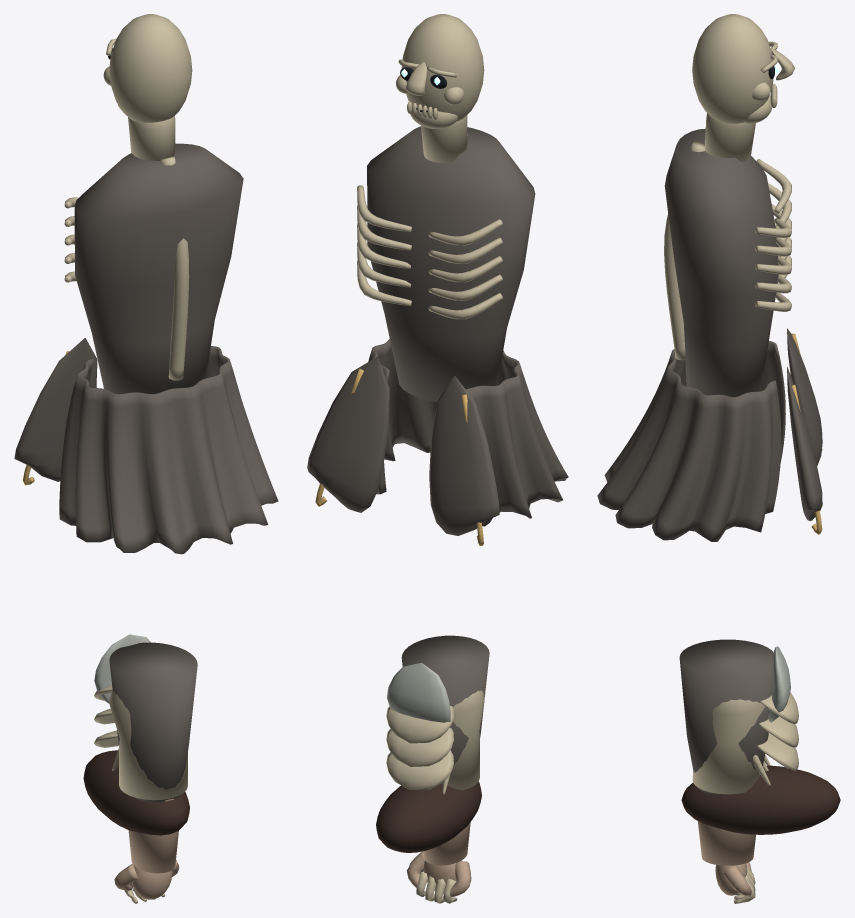
The model's file is raider.glb.
The picture shows the model from 3 angles, left to right: view 1: azimuth 30°, elevation 25°; view 2: azimuth 150°, elevation 25°; view 3: azimuth 270°, elevation 25°; orthographic projection.
Visible parts, largest first — view 1: Body__ash, Body__bone, LegL__ash, KneeL__leather, KneeL__bone, ArmL__skin, KneeL__silver; view 2: Body__ash, Body__bone, KneeL__bone, KneeL__leather, LegL__ash, KneeL__silver, ArmL__skin, ArmL__bone, Body__gold; view 3: Body__ash, Body__bone, LegL__ash, KneeL__leather, KneeL__bone, ArmL__skin, KneeL__silver.
Part boxes in pixels (x1,y1,x2,y2): Body__ash: (14, 143, 278, 554); Body__bone: (64, 14, 192, 380); LegL__ash: (109, 642, 197, 802); KneeL__leather: (83, 750, 189, 835); KneeL__bone: (94, 686, 187, 800); ArmL__skin: (114, 798, 178, 899); KneeL__silver: (94, 634, 150, 703); Body__ash: (307, 126, 568, 535); Body__bone: (357, 14, 502, 319); KneeL__bone: (386, 690, 484, 790); KneeL__leather: (376, 781, 481, 852); LegL__ash: (401, 635, 489, 766); KneeL__silver: (386, 663, 450, 722); ArmL__skin: (423, 822, 471, 897); ArmL__bone: (416, 872, 457, 903); Body__gold: (315, 368, 483, 545); Body__ash: (597, 128, 822, 541); Body__bone: (664, 14, 794, 360); LegL__ash: (679, 639, 773, 794); KneeL__leather: (681, 765, 840, 834); KneeL__bone: (692, 692, 798, 794); ArmL__skin: (698, 821, 755, 895); KneeL__silver: (768, 646, 790, 722).
Bounding box in the file's own units: 0.6045 × 2.62 × 0.657.
